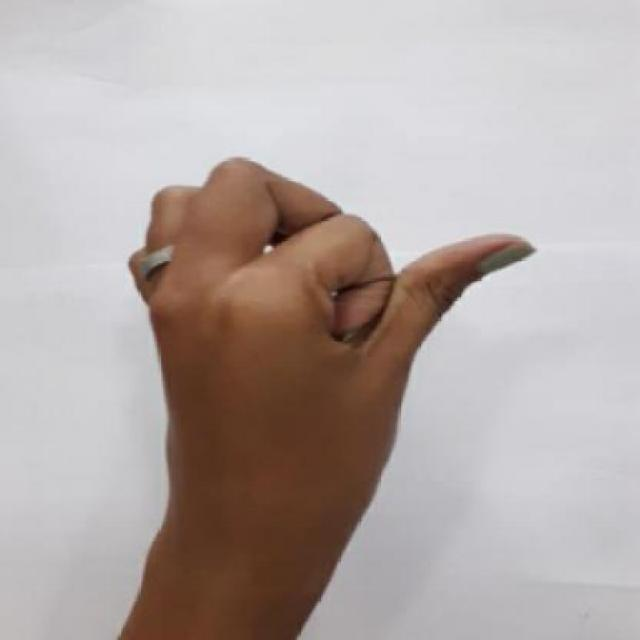without_gloves: (106, 145, 571, 590)
